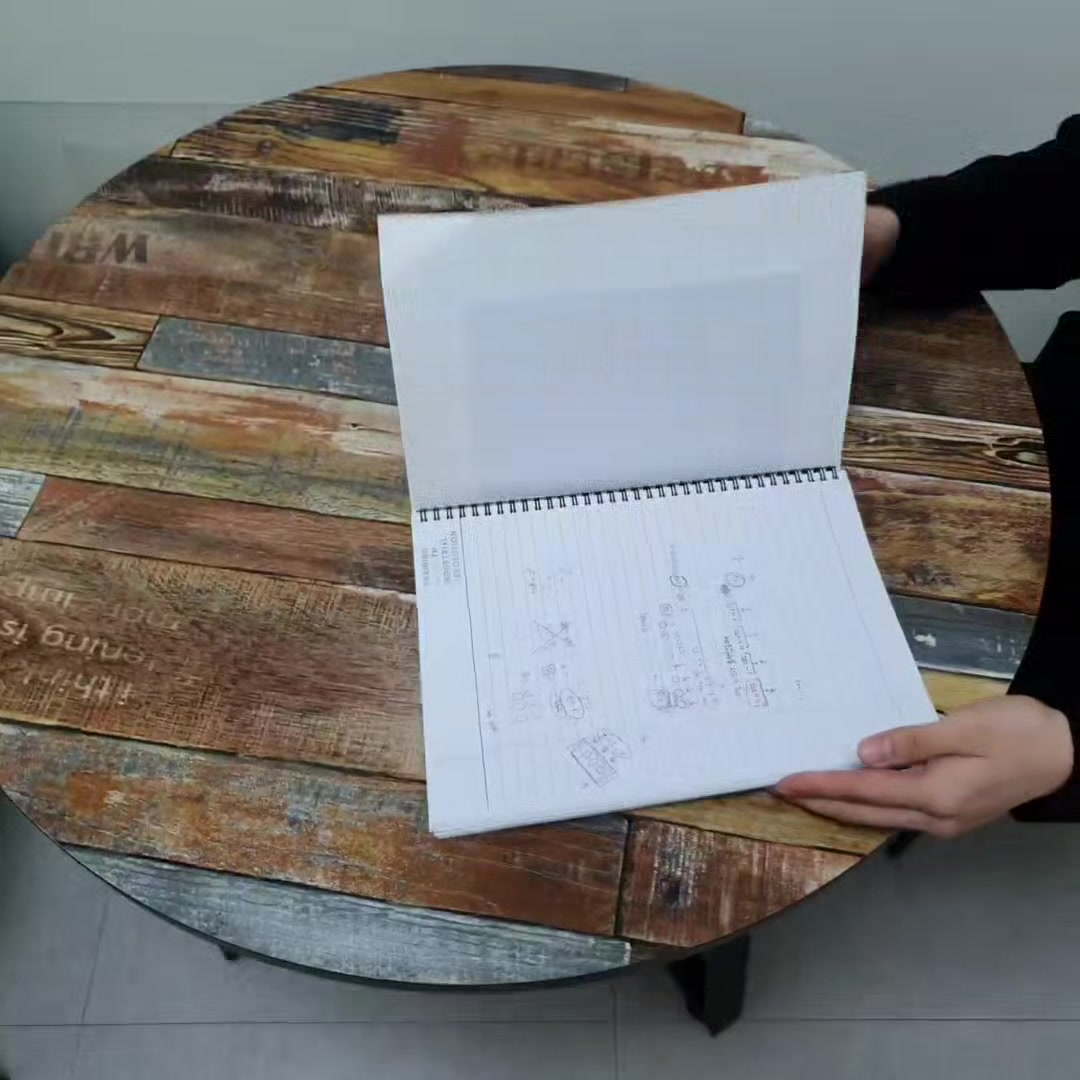book: (381, 168, 945, 837)
